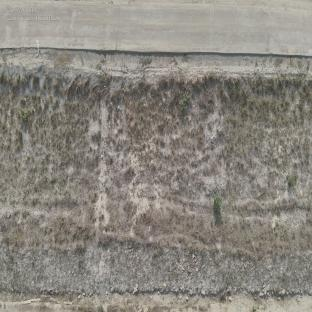rock_toe: (111, 245, 312, 291), (1, 250, 88, 292)
slope_drain: (87, 97, 112, 291)
toe_drain: (0, 289, 312, 312)
